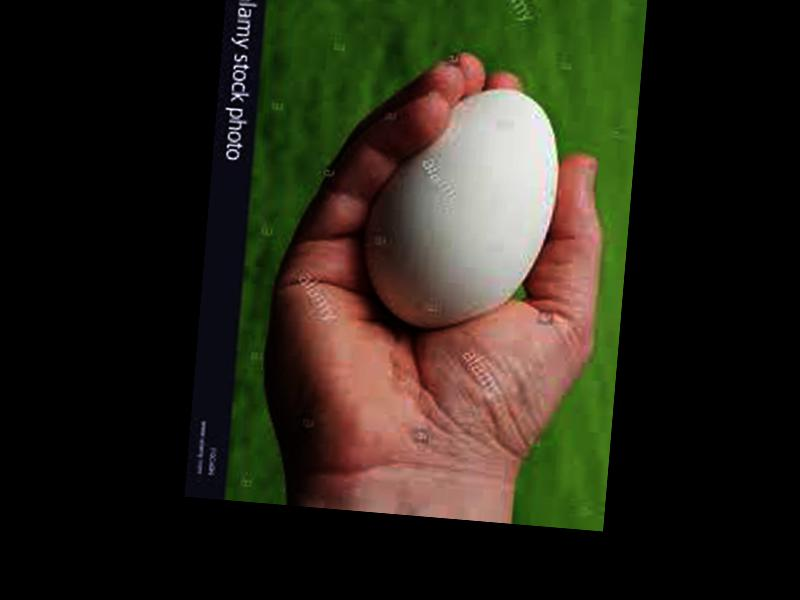Eggs: (356, 79, 566, 342)
